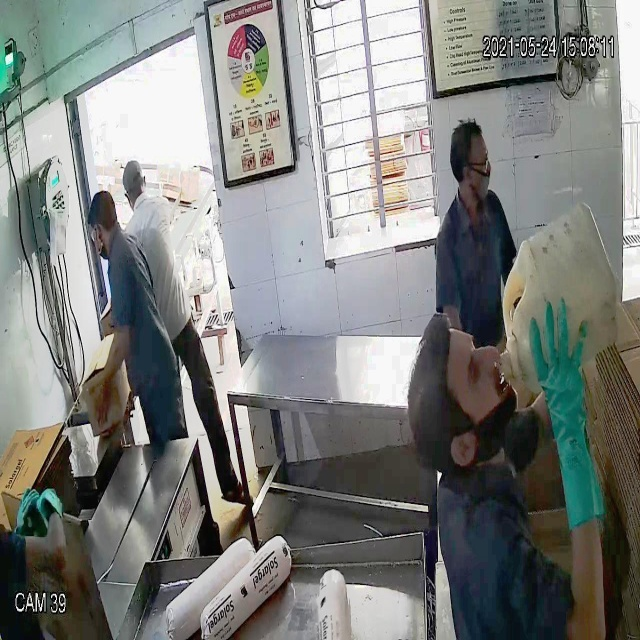Gafas: (452, 146, 492, 180)
Sin_gafas: (443, 318, 500, 405)
